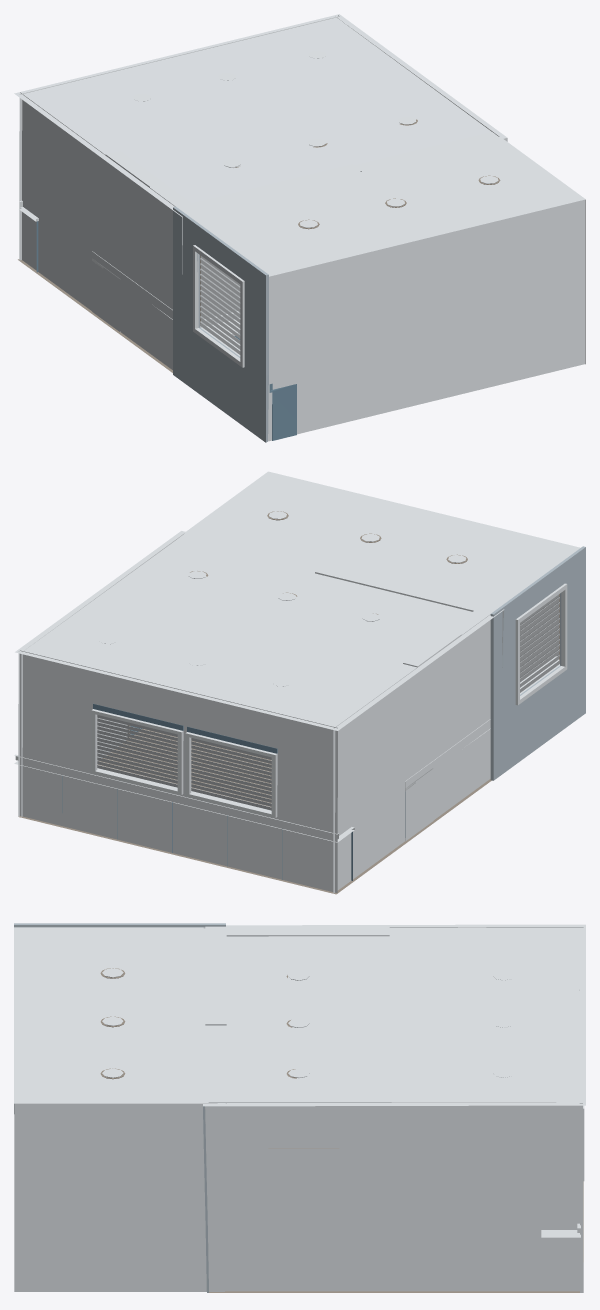
The model's file is RoomModel.fbx.
3 views of the same model, one above another, from view 1: azimuth 30°, elevation 25°; view 2: azimuth 150°, elevation 25°; view 3: azimuth 270°, elevation 25° (orthographic). The views are drawn at different scales.
Visible parts, largest first — view 1: Wall.02, Wall.01, upshelf01, Sinks01, Shelf; view 2: Wall.01, Wall.02, upshelf01, Sinks01, Sinks001, frontwall01; view 3: frontwall01, Wall.01, frontwall02, Wall.02, upshelf01.
Part boxes in pixels (x1=…): Wall.02: x1=173, y1=131, x2=585, y2=442; Wall.01: x1=14, y1=14, x2=507, y2=372; upshelf01: x1=105, y1=151, x2=361, y2=213; Sinks01: x1=92, y1=251, x2=172, y2=332; Shelf: x1=200, y1=311, x2=296, y2=440; Wall.01: x1=15, y1=531, x2=504, y2=894; Wall.02: x1=176, y1=471, x2=585, y2=780; upshelf01: x1=315, y1=565, x2=497, y2=667; Sinks01: x1=405, y1=719, x2=490, y2=841; Sinks001: x1=14, y1=754, x2=354, y2=880; frontwall01: x1=21, y1=533, x2=184, y2=817; frontwall01: x1=208, y1=1102, x2=579, y2=1291; Wall.01: x1=203, y1=924, x2=585, y2=1292; frontwall02: x1=14, y1=1103, x2=224, y2=1291; Wall.02: x1=14, y1=923, x2=225, y2=1113; upshelf01: x1=205, y1=926, x2=389, y2=1025.
Size of the model in its own units: 618 by 301 by 815.
